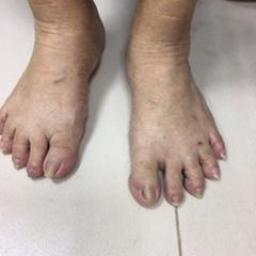Dorsal View -Both Feet-: (1, 2, 236, 223)
